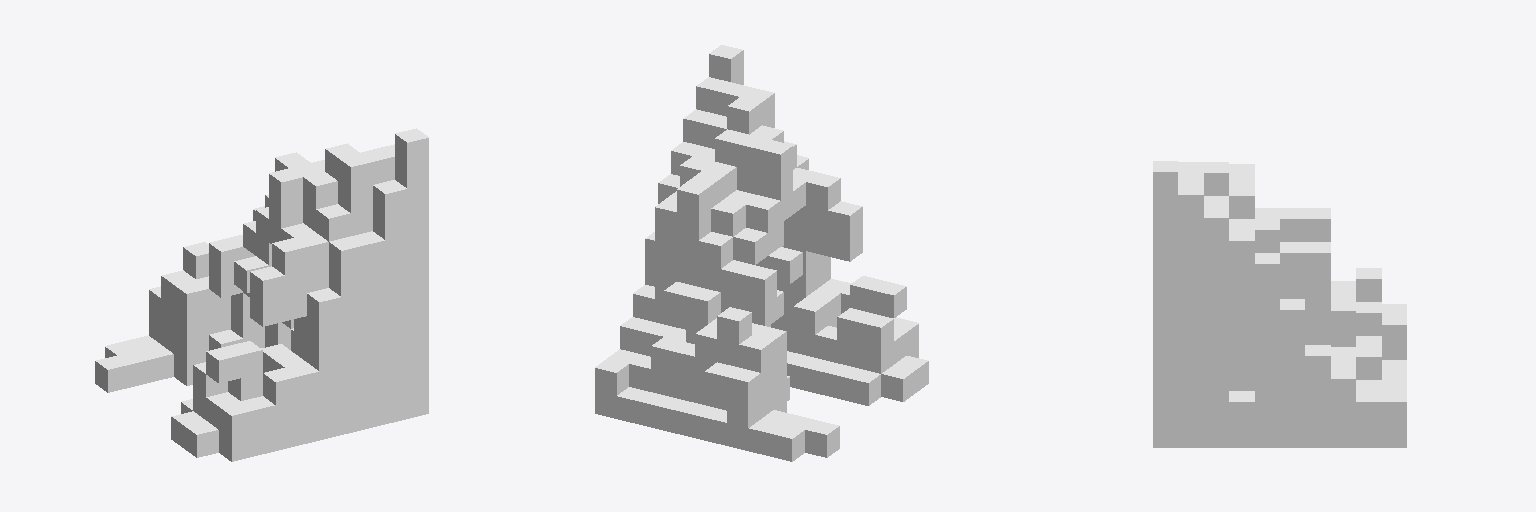
The model's file is Stein_ecke_ebene-4.0.obj.
The picture shows the model from 3 angles: view 1: azimuth 30°, elevation 25°; view 2: azimuth 150°, elevation 25°; view 3: azimuth 270°, elevation 25°; orthographic projection.
Visible parts, largest first — view 1: object 1; view 2: object 1; view 3: object 1.
Part boxes in pixels (bbox=[...]): object 1: bbox=[95, 128, 428, 461]; object 1: bbox=[595, 45, 928, 461]; object 1: bbox=[1153, 161, 1406, 447].
Size of the model in its own units: 1 by 1.2 by 1.